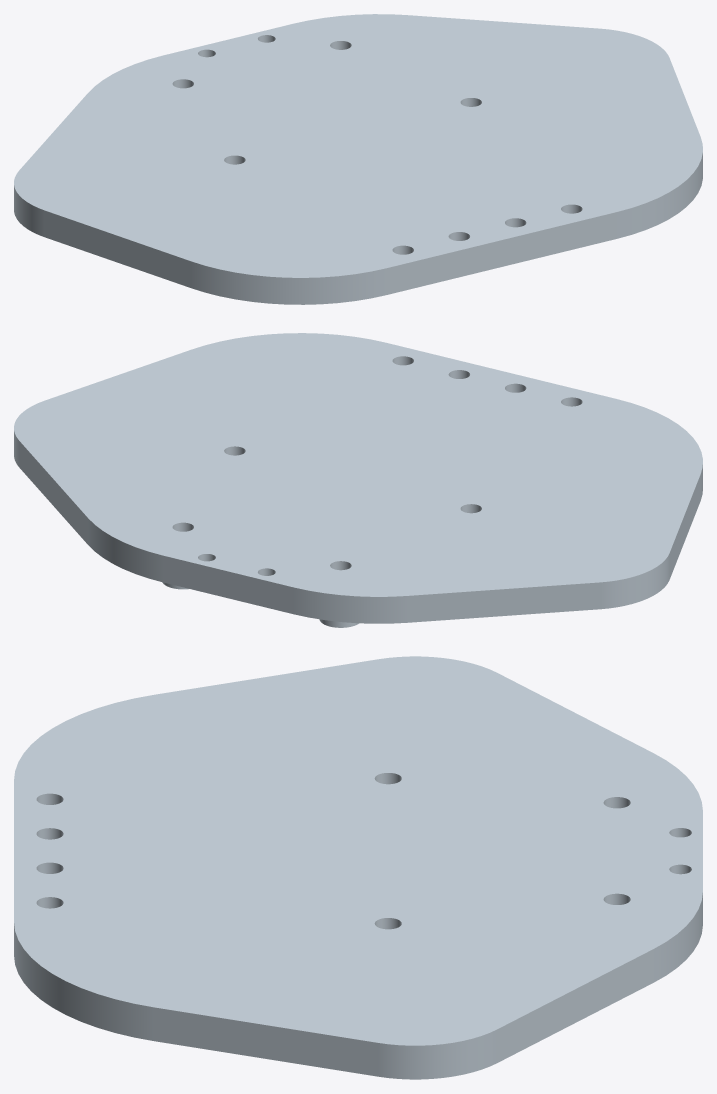
3 renders of one model, top to bottom at view 1: azimuth 30°, elevation 25°; view 2: azimuth 150°, elevation 25°; view 3: azimuth 270°, elevation 25°, orthographic. The views are drawn at different scales.
Visible parts, largest first — view 1: mesh2997, mesh2980, mesh2979, mesh2978, mesh2981, mesh2977; view 2: mesh2997, mesh2976, mesh2972, mesh2975, mesh2974, mesh2977, mesh2982, mesh2978; view 3: mesh2997, mesh2983, mesh2982, mesh2981, mesh2984, mesh2974.
Part boxes in pixels (x1,y1,x2,y2): mesh2997: (14,14,702,277); mesh2980: (386,212,616,294); mesh2979: (191,261,386,304); mesh2978: (44,210,191,287); mesh2981: (617,153,702,238); mesh2977: (14,185,44,236); mesh2997: (14,333,702,596); mesh2976: (407,582,600,622); mesh2972: (163,555,292,613); mesh2975: (293,587,406,623); mesh2974: (88,518,162,581); mesh2977: (600,553,669,609); mesh2982: (19,441,87,544); mesh2978: (669,475,700,578); mesh2997: (14,656,702,1045); mesh2983: (154,1007,377,1076); mesh2982: (497,949,653,1062); mesh2981: (14,923,154,1040); mesh2984: (378,1029,497,1079); mesh2974: (653,893,702,982).
Bounding box in the file's own units: 0.1022 × 0.00819 × 0.0765.
